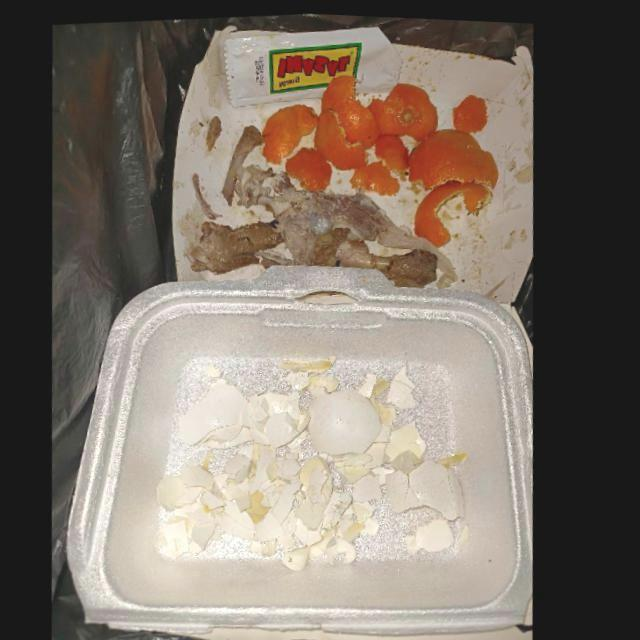left_over_food: (258, 184, 463, 286), (223, 122, 314, 213), (193, 215, 288, 271)
plastic_sachet: (221, 23, 402, 104)
